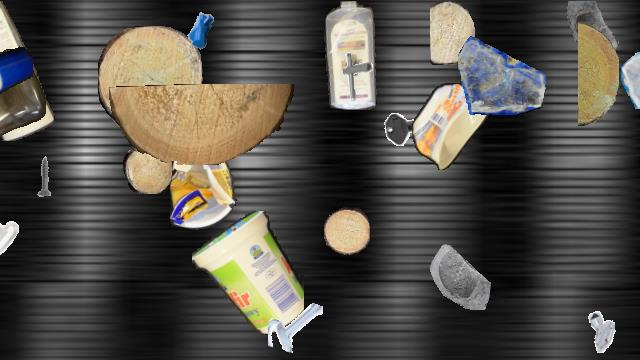glass: (458, 29, 546, 117), (417, 235, 491, 309), (563, 1, 627, 65), (621, 47, 640, 109)
metal: (173, 1, 227, 55), (268, 298, 322, 352), (328, 49, 382, 103), (582, 308, 626, 352), (23, 155, 65, 197), (382, 107, 424, 149), (0, 207, 21, 255)
plastic: (192, 211, 304, 335), (0, 1, 58, 141), (0, 47, 46, 205), (412, 83, 490, 169), (170, 132, 238, 230), (322, 1, 380, 109), (0, 36, 32, 124)
wood: (109, 84, 295, 164), (98, 26, 202, 130), (578, 22, 618, 126), (430, 1, 474, 65), (123, 145, 171, 193), (324, 207, 370, 255)
